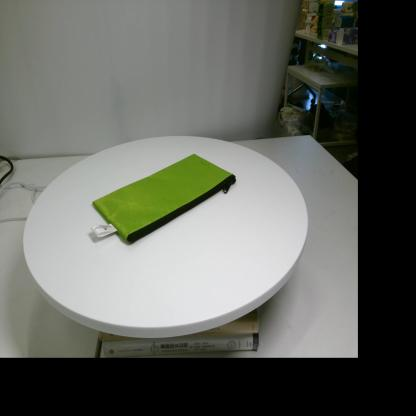Stationery: (90, 154, 236, 244)
